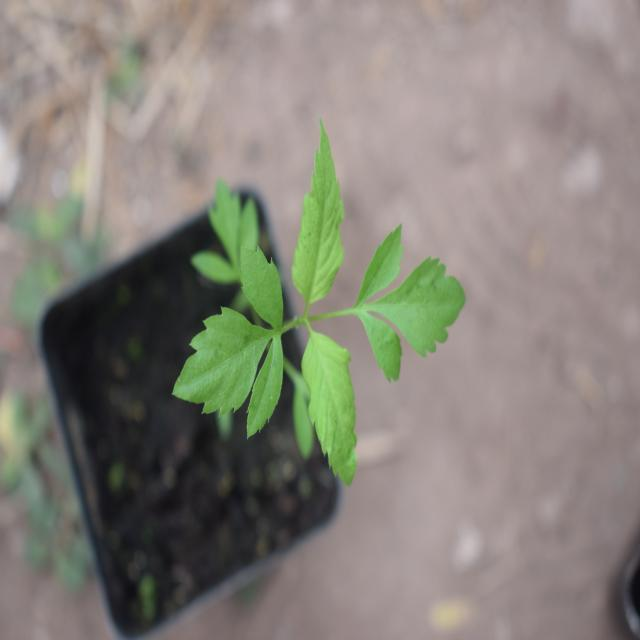Bidens pilosa: (167, 127, 483, 470)
